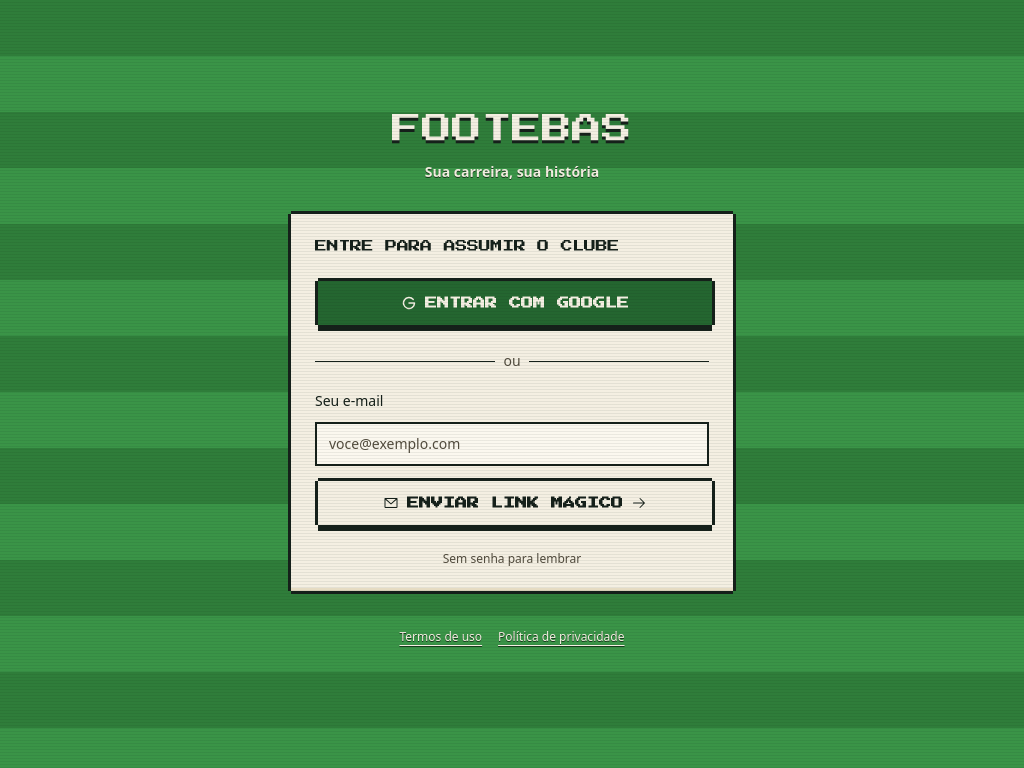
Test: entrada com conta › envia o link mágico pelo port e pede para conferir o e-mail
In the field labelled "Seu e-mail": (512,444) x1=315 y1=422 x2=709 y2=466, type " ana@footebas.com "
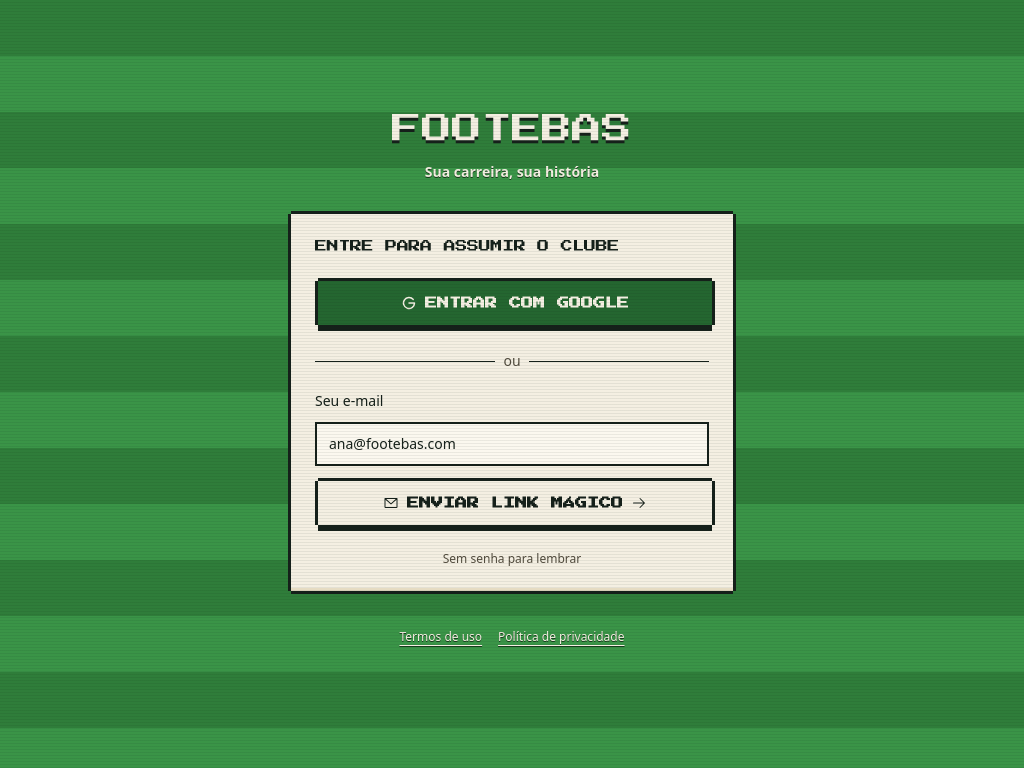
Click the button "Enviar link mágico": (515,503) x1=318 y1=481 x2=712 y2=525
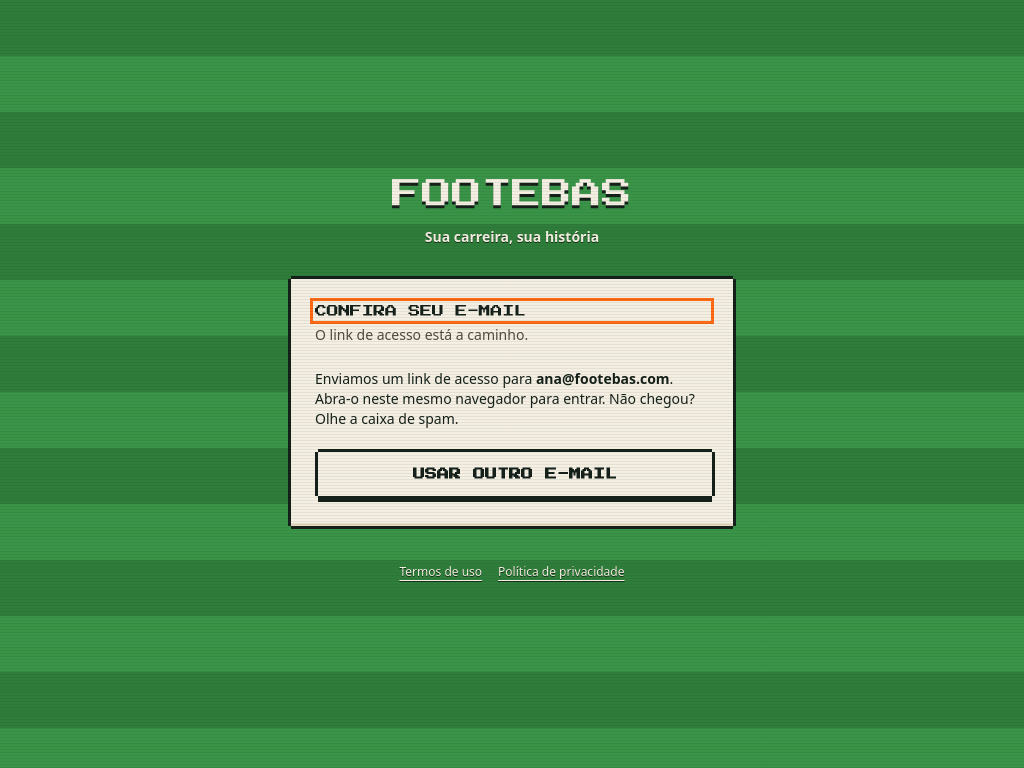
Check: the message shows "ana@footebas.com", box x1=536 y1=369 x2=670 y2=388
